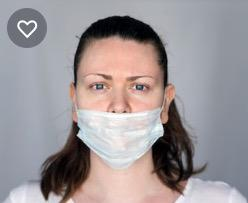mask_weared_incorrect: (74, 66, 158, 162)
